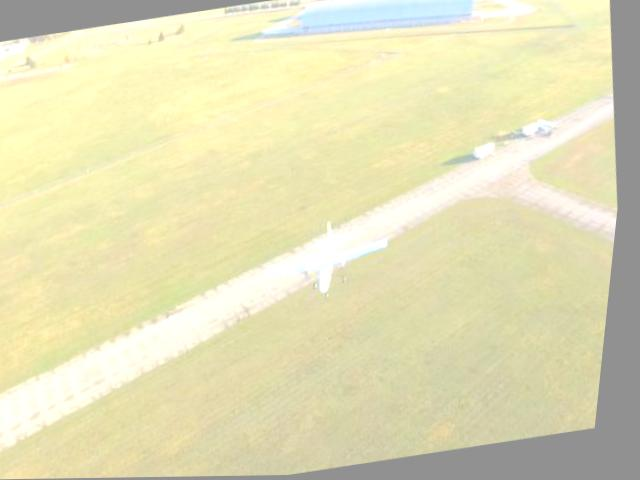uav: (264, 213, 403, 305)
